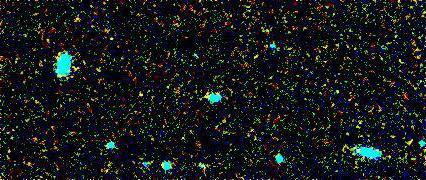star: (125, 79, 155, 109)
